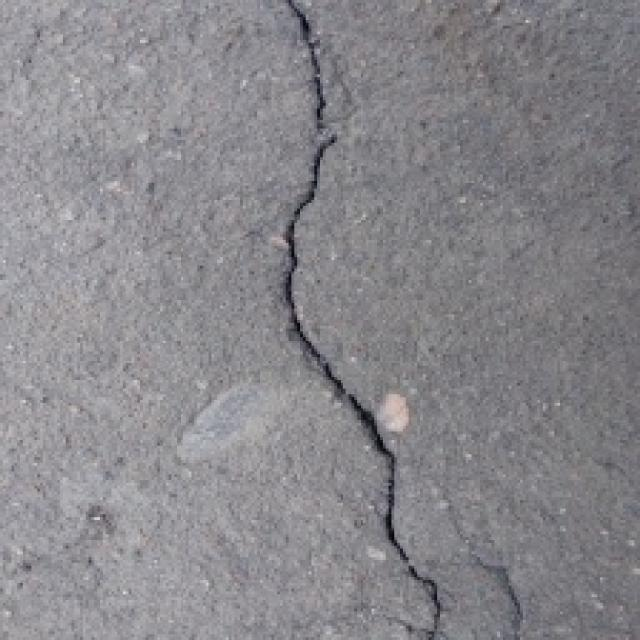crack: (244, 0, 472, 640)
